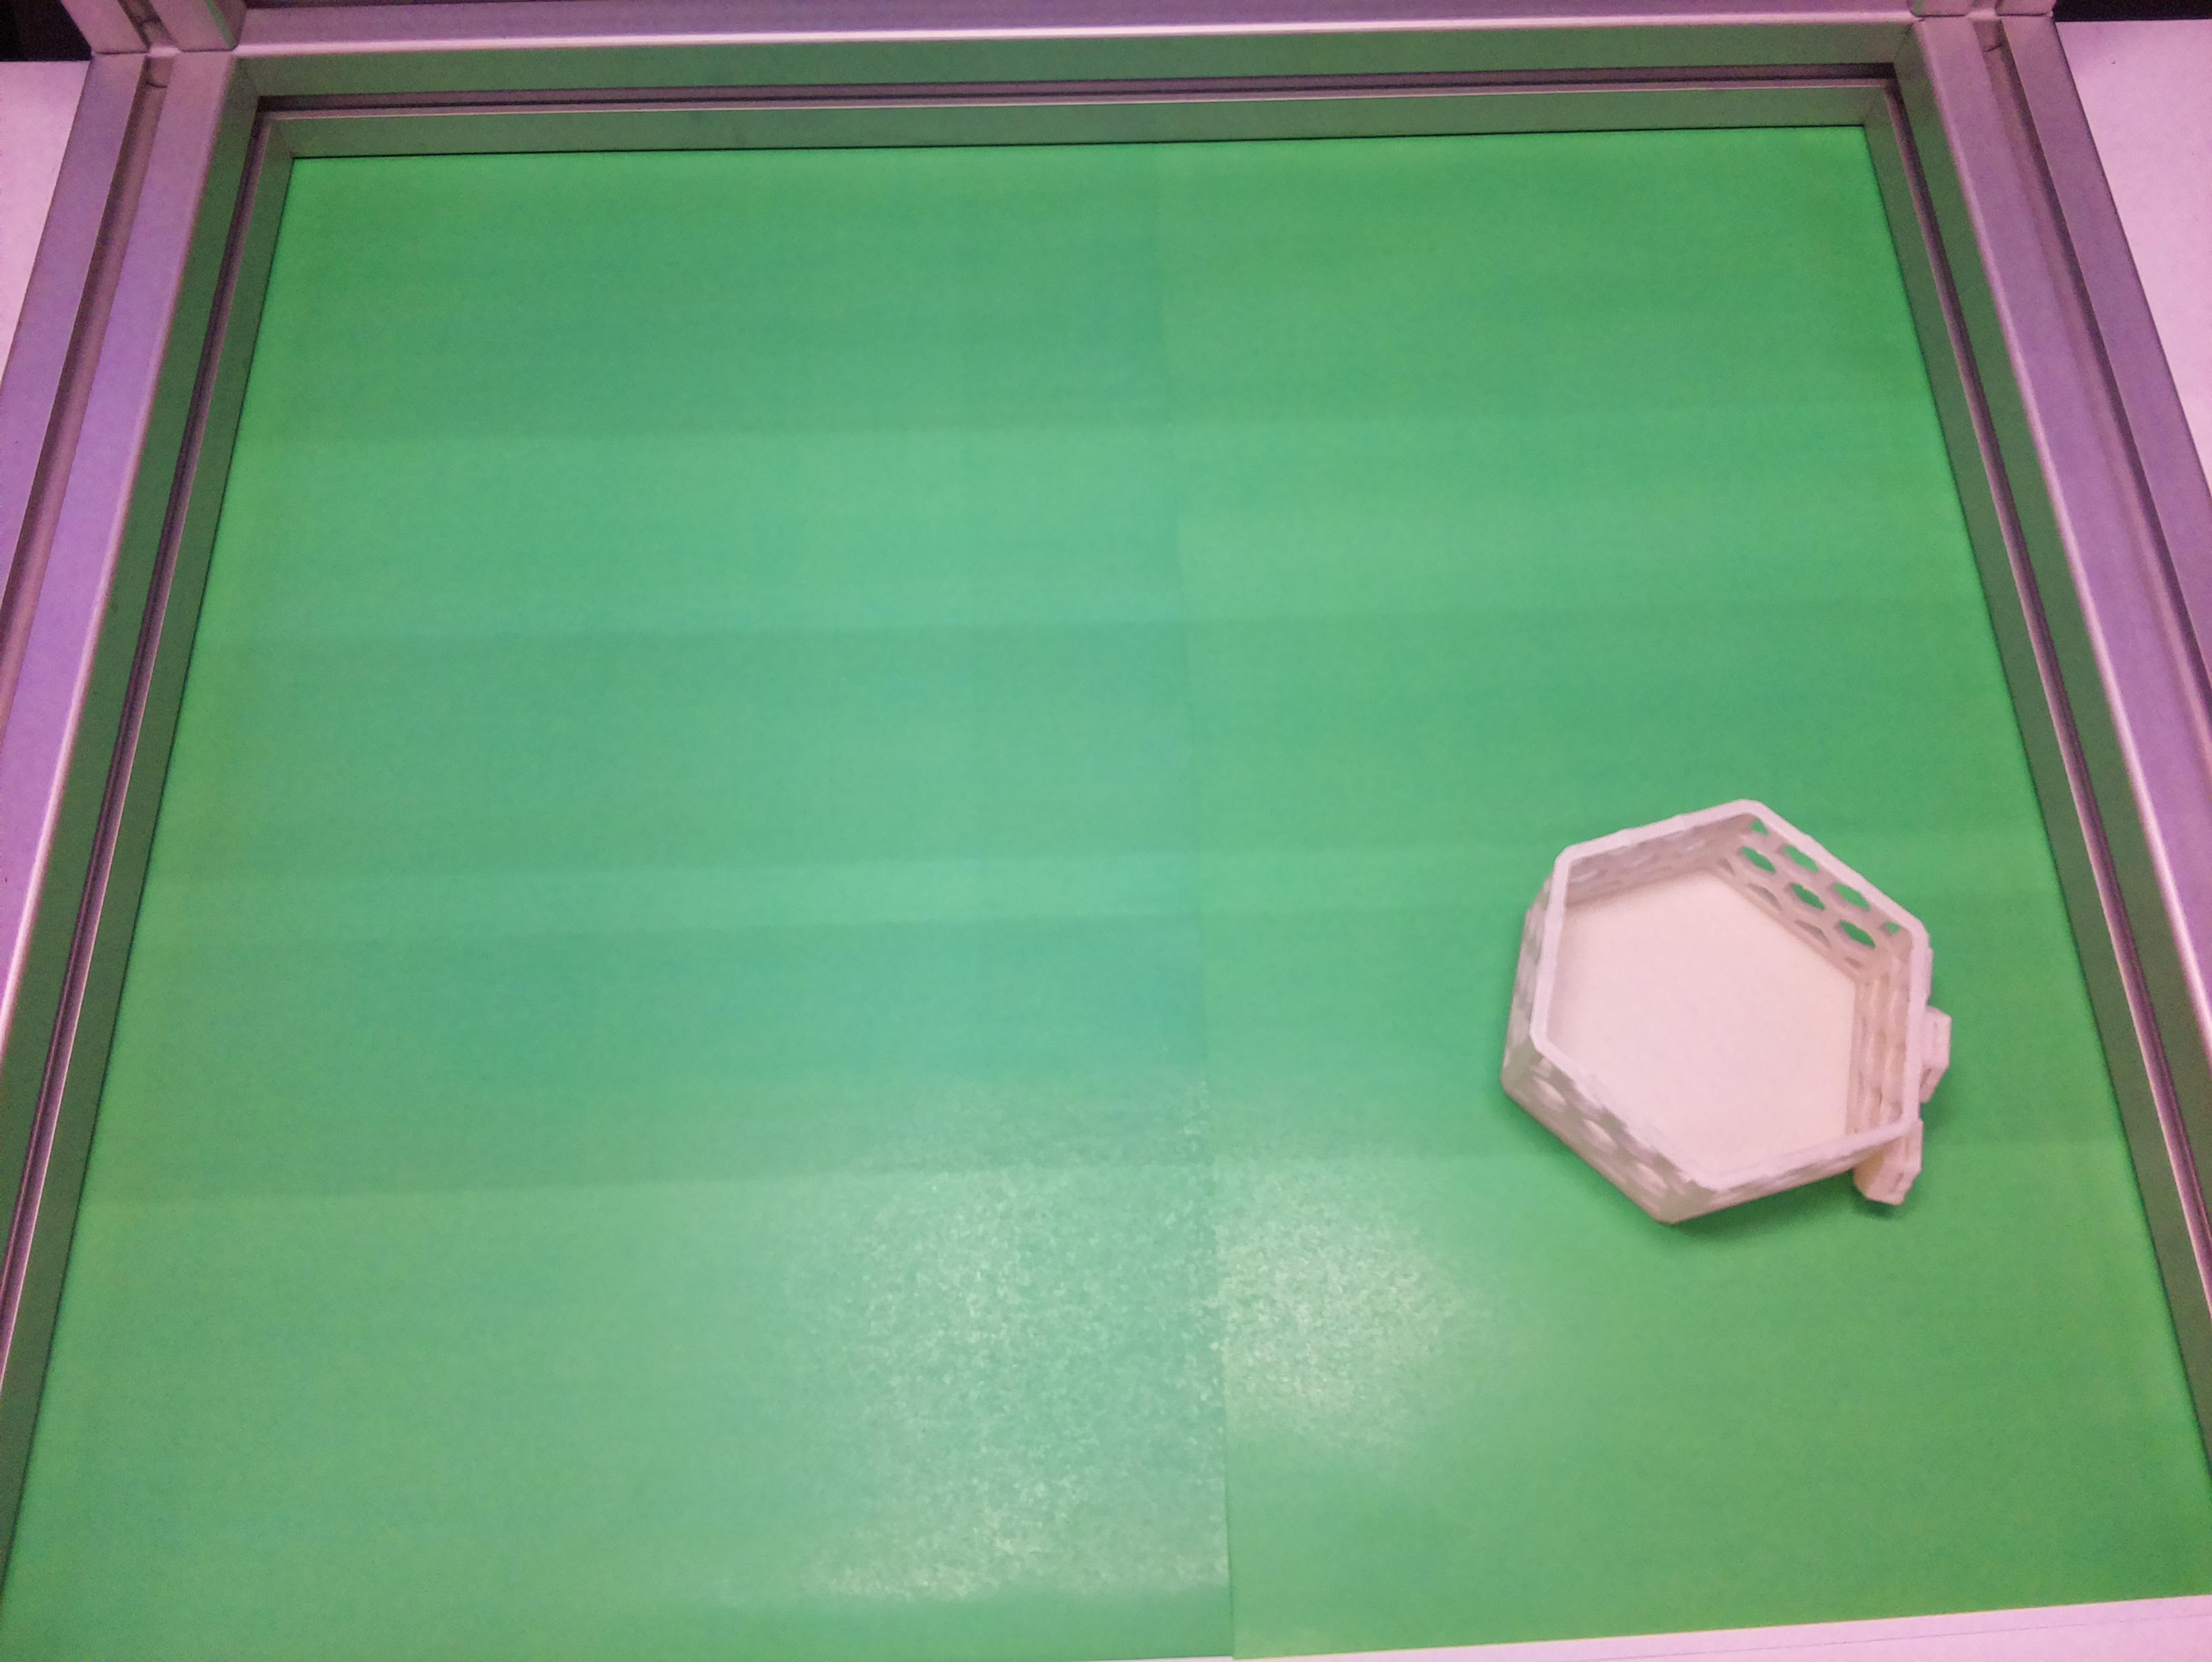bottle_holder: (1479, 784, 1966, 1238)
